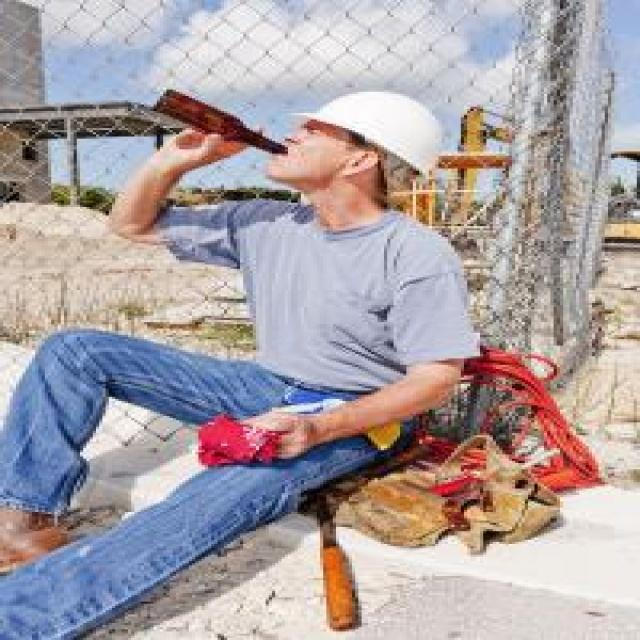helmet: (275, 103, 457, 285)
